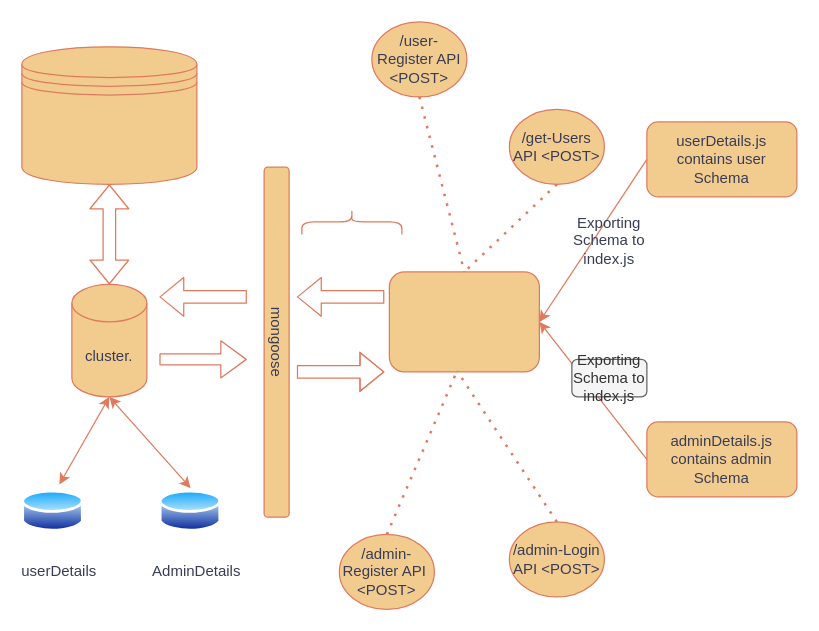
The diagram is 819 pixels wide and 631 high, and some of its shapes have lost their labels. The centre of each missing label's shape, as x and y in pixels:
"index.js imports mongoose." goes at pixel 463 321.
"mongoDB" goes at pixel 109 115.
"REST APIs" goes at pixel 351 221.
